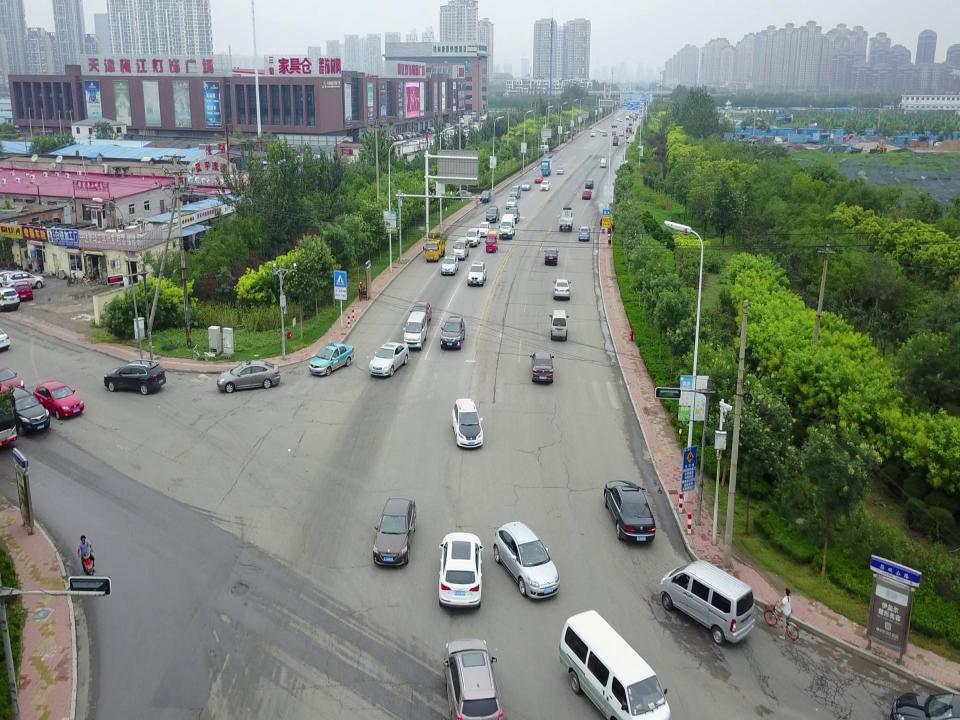bus: (0, 393, 22, 450)
car: (563, 610, 669, 720), (494, 518, 562, 601), (440, 634, 502, 720), (438, 530, 484, 608), (604, 479, 657, 546), (373, 494, 416, 570), (0, 383, 54, 436), (104, 359, 166, 396), (889, 687, 960, 719), (217, 359, 281, 394), (33, 380, 85, 419), (450, 398, 484, 449), (309, 342, 354, 376), (370, 342, 409, 377), (440, 316, 466, 351), (0, 368, 25, 400), (530, 351, 554, 383), (4, 271, 44, 290), (409, 299, 431, 326), (466, 259, 486, 287), (0, 289, 21, 311), (552, 278, 572, 298), (440, 256, 458, 275), (15, 282, 33, 301), (0, 270, 20, 286), (464, 228, 480, 246), (486, 230, 498, 252), (544, 248, 560, 264), (0, 329, 10, 352), (506, 207, 520, 223), (477, 220, 491, 236), (486, 206, 499, 222), (578, 226, 590, 241), (506, 195, 517, 209), (452, 190, 472, 197), (520, 180, 532, 191), (582, 189, 592, 200), (480, 192, 492, 201), (585, 178, 595, 188), (540, 180, 550, 190), (556, 166, 564, 175), (535, 174, 543, 183), (602, 130, 608, 136), (612, 135, 618, 141), (625, 114, 630, 121), (613, 139, 618, 146), (590, 132, 595, 138), (616, 115, 620, 121), (619, 130, 623, 135), (611, 131, 615, 135), (630, 111, 632, 118)
truck: (424, 235, 446, 263), (558, 207, 574, 230), (540, 157, 552, 177), (626, 121, 634, 132), (612, 121, 618, 128), (620, 125, 624, 132)
van: (660, 556, 756, 646), (403, 311, 427, 350), (549, 310, 569, 341), (499, 215, 515, 239), (453, 236, 469, 259), (510, 185, 520, 197), (600, 156, 606, 168)
